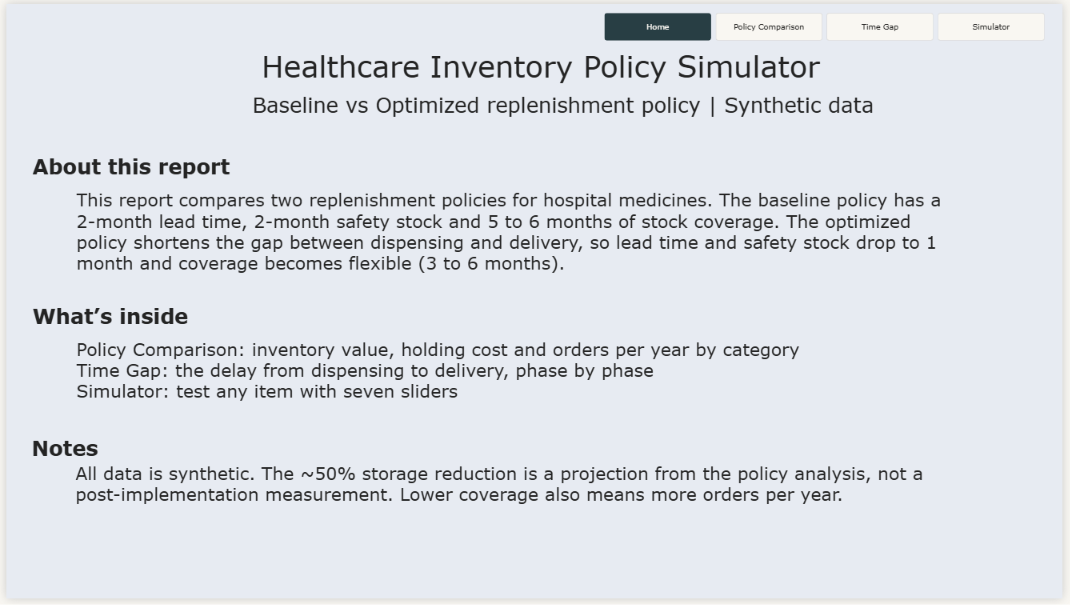

The page's visual inventory and layout, read from the dashboard file:
{"tool":"powerbi","page":{"name":"Home","canvas":[1920,1080],"ordinal":0},"visuals":[{"type":"textbox","box":[464,80,1104,80],"z":0},{"type":"textbox","box":[448,160,1264,64],"z":1000},{"type":"textbox","box":[48,272,480,64],"z":2000},{"type":"textbox","box":[128,336,1584,176],"z":3000},{"type":"textbox","box":[48,544,304,48],"z":4000},{"type":"textbox","box":[128,608,1584,160],"z":5000},{"type":"textbox","box":[44.8,784,304,48],"z":6000},{"type":"textbox","box":[124.8,832,1584,128],"z":7000},{"type":"pageNavigator","box":[1088,16,800,50],"z":8000}]}

Visuals, with their boxes in screenshot pixels (x1, y1, x2, y2), scaled from the page's 1920x1080 canvas onto the 1070x605 screenshot:
textbox: region(259, 45, 874, 90)
textbox: region(250, 90, 954, 125)
textbox: region(27, 152, 294, 188)
textbox: region(71, 188, 954, 287)
textbox: region(27, 305, 196, 332)
textbox: region(71, 341, 954, 430)
textbox: region(25, 439, 194, 466)
textbox: region(70, 466, 952, 538)
pageNavigator: region(606, 9, 1052, 37)
